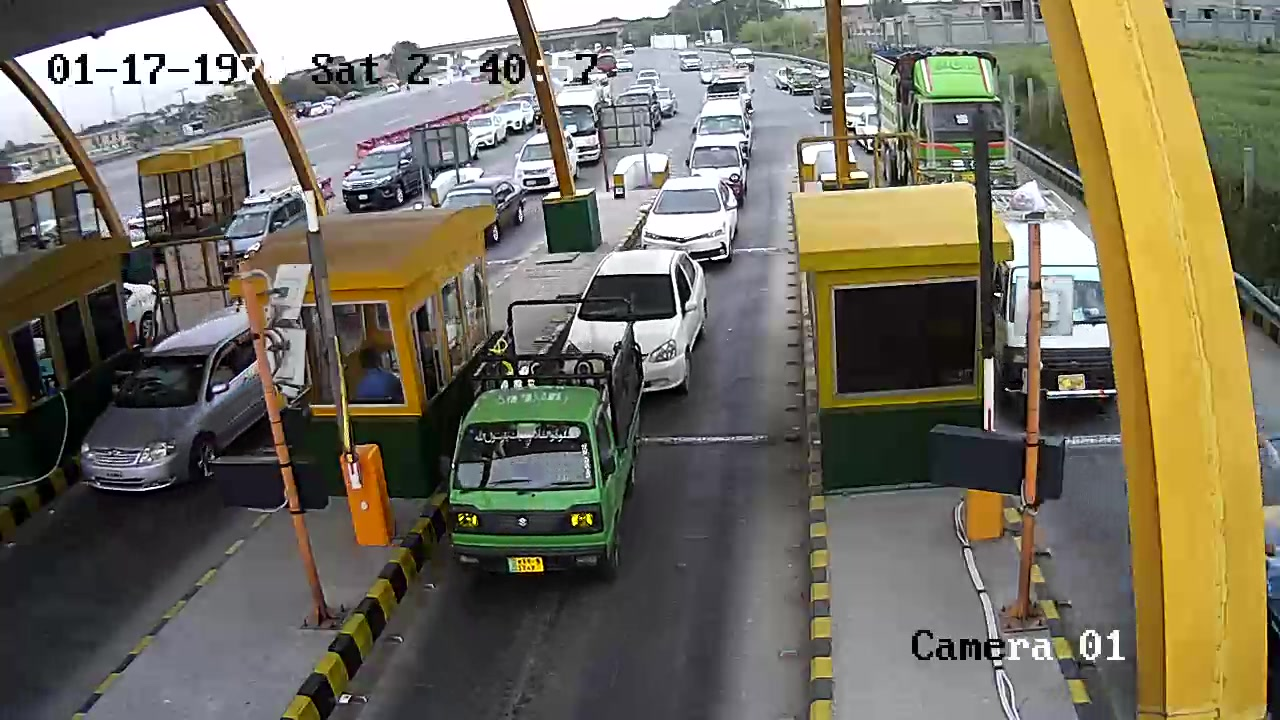F1: (441, 278, 655, 601)
